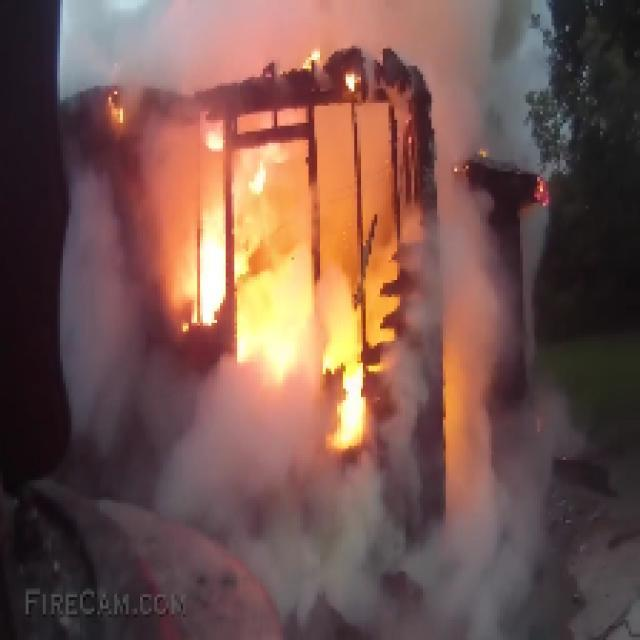Fire: (174, 106, 400, 454), (300, 40, 369, 97), (97, 92, 132, 134)
Smoke: (77, 160, 566, 640), (66, 5, 463, 89)
